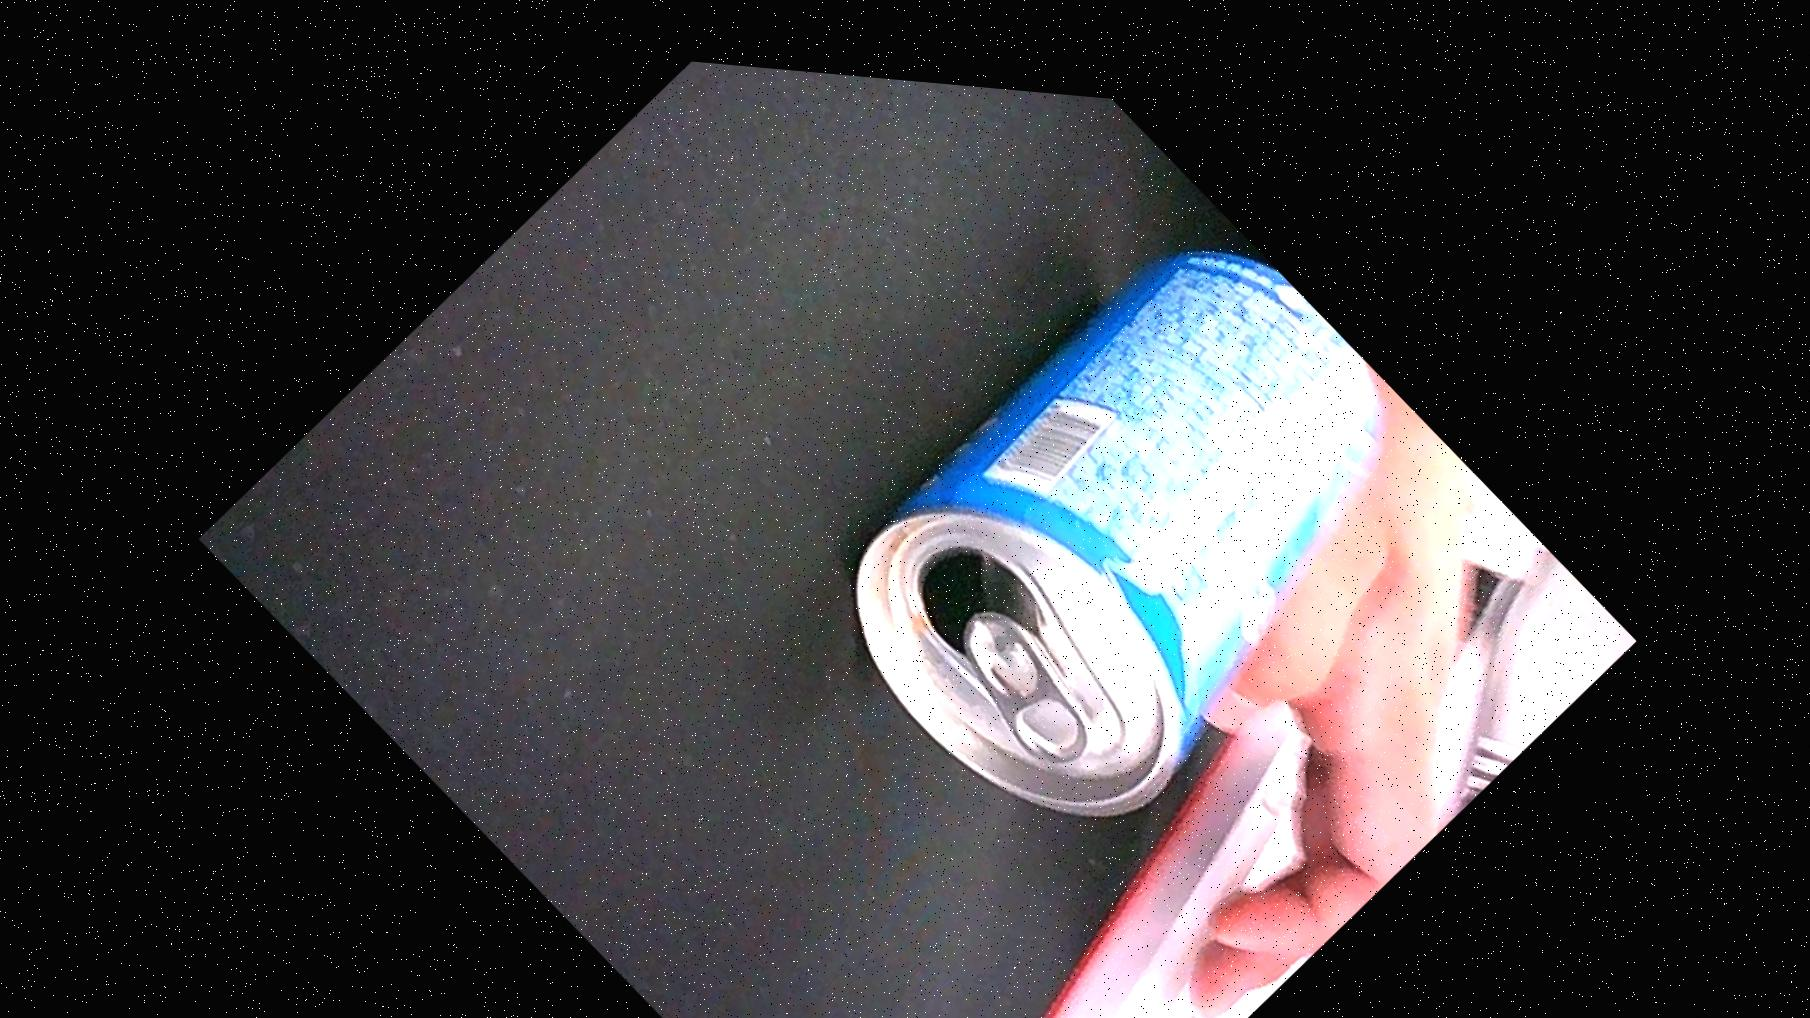letsbe: (783, 147, 1486, 890)
